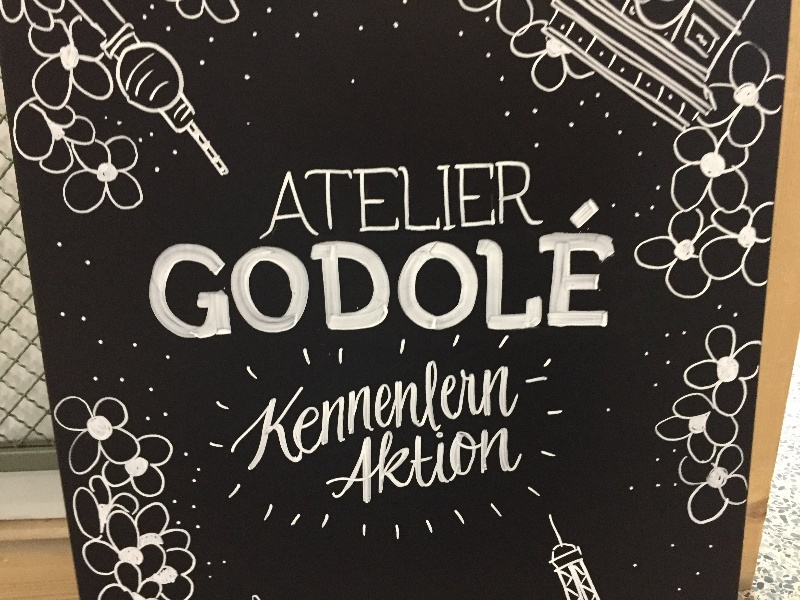text: (161, 198, 176, 342), (177, 198, 192, 342), (193, 198, 208, 342), (209, 198, 224, 342), (225, 198, 240, 342), (241, 198, 256, 342), (257, 198, 272, 342), (273, 198, 288, 342), (289, 198, 304, 342), (305, 198, 320, 342), (321, 198, 336, 342), (337, 198, 352, 342), (353, 198, 368, 342), (369, 198, 384, 342), (385, 198, 400, 342), (401, 198, 416, 342), (417, 198, 432, 342), (433, 198, 448, 342), (449, 198, 464, 342), (465, 198, 480, 342), (481, 198, 496, 342), (497, 198, 512, 342), (513, 198, 528, 342), (529, 198, 544, 342), (545, 198, 560, 342), (561, 198, 576, 342), (577, 198, 592, 342), (593, 198, 608, 342), (241, 342, 256, 475), (257, 342, 272, 475), (273, 342, 288, 475), (289, 342, 304, 475), (305, 342, 320, 475), (321, 342, 336, 475), (337, 342, 352, 475), (353, 342, 368, 475), (369, 342, 384, 475), (385, 342, 400, 475), (401, 342, 416, 475), (417, 342, 432, 475), (433, 342, 448, 475), (449, 342, 464, 475), (465, 342, 480, 475), (481, 342, 496, 475), (497, 342, 512, 475), (513, 342, 528, 475), (529, 342, 544, 475), (609, 198, 620, 342), (337, 408, 352, 512), (353, 408, 368, 512), (369, 408, 384, 512), (385, 408, 400, 512), (401, 408, 416, 512), (417, 408, 432, 512), (433, 408, 448, 512), (449, 408, 464, 512), (465, 408, 480, 512), (481, 408, 496, 512), (497, 408, 512, 512), (150, 198, 160, 342), (529, 160, 545, 241), (289, 160, 304, 241), (305, 160, 320, 241), (321, 160, 336, 241), (337, 160, 352, 241), (353, 160, 368, 241), (369, 160, 384, 241), (385, 160, 400, 241), (401, 160, 416, 241), (417, 160, 432, 241), (433, 160, 448, 241), (449, 160, 464, 241), (465, 160, 480, 241), (481, 160, 496, 241), (497, 160, 512, 241), (513, 160, 528, 241), (513, 408, 522, 512), (233, 342, 240, 475), (328, 408, 336, 512), (545, 342, 549, 475)
